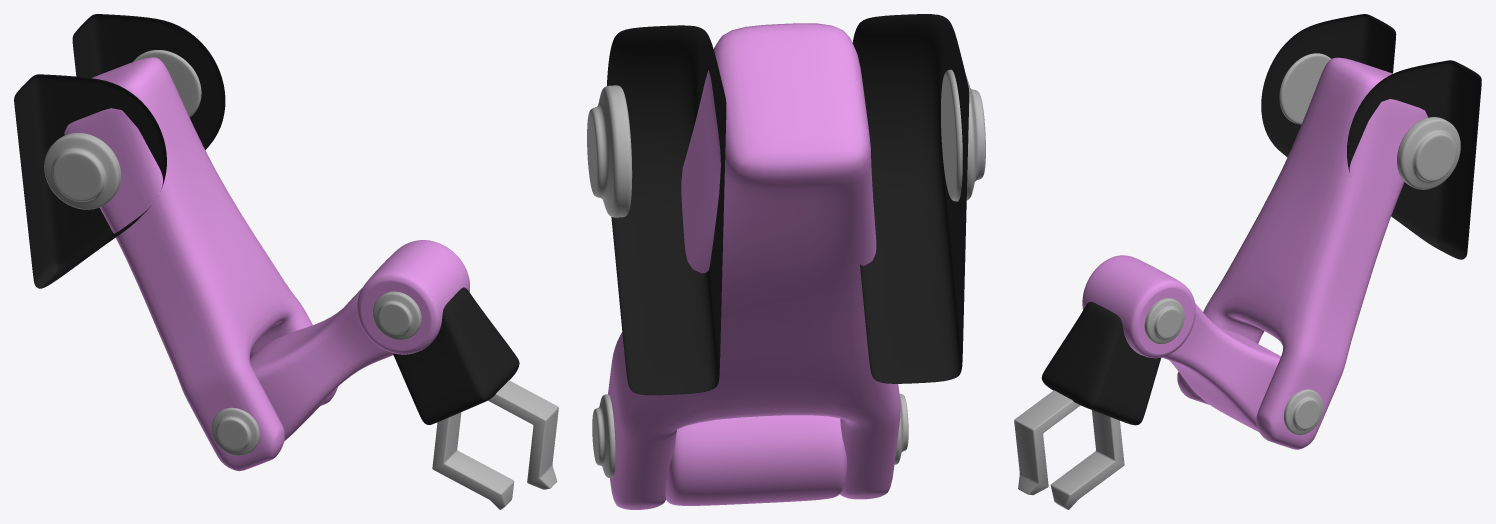
File: arm.fbx
3 views of the same model, side by side, from view 1: azimuth 30°, elevation 25°; view 2: azimuth 150°, elevation 25°; view 3: azimuth 270°, elevation 25° (orthographic). The views are drawn at different scales.
Parts seen in each view (by area): view 1: Cube.009, Cube.007, Cube.010, Cube.008, Cylinder.009, Cube.011, Cylinder.010, Cylinder.012, Cylinder.011; view 2: Cube.009, Cube.007, Cube.008, Cylinder.010, Cylinder.011; view 3: Cube.009, Cube.007, Cube.010, Cube.008, Cube.011, Cylinder.009, Cylinder.010, Cylinder.012, Cylinder.011.
Boxes of the visible parts, left/top/right/bottom form: Cube.009: left=64, top=57, right=337, bottom=471; Cube.007: left=14, top=14, right=225, bottom=288; Cube.010: left=393, top=287, right=519, bottom=424; Cube.008: left=250, top=288, right=393, bottom=440; Cylinder.009: left=357, top=240, right=469, bottom=354; Cube.011: left=432, top=380, right=558, bottom=509; Cylinder.010: left=44, top=50, right=201, bottom=209; Cylinder.012: left=373, top=291, right=421, bottom=339; Cylinder.011: left=211, top=407, right=259, bottom=455; Cube.009: left=608, top=23, right=900, bottom=509; Cube.007: left=607, top=14, right=969, bottom=395; Cube.008: left=665, top=415, right=846, bottom=505; Cylinder.010: left=587, top=69, right=985, bottom=217; Cylinder.011: left=592, top=393, right=908, bottom=477; Cube.009: left=1177, top=57, right=1427, bottom=449; Cube.007: left=1261, top=14, right=1481, bottom=259; Cube.010: left=1041, top=302, right=1160, bottom=425; Cube.008: left=1162, top=303, right=1280, bottom=431; Cube.011: left=1014, top=390, right=1124, bottom=509; Cylinder.009: left=1082, top=255, right=1195, bottom=358; Cylinder.010: left=1279, top=53, right=1460, bottom=189; Cylinder.012: left=1144, top=298, right=1184, bottom=343; Cylinder.011: left=1284, top=389, right=1323, bottom=434.
Size of the model in its own units: 47.64 by 47.64 by 56.79.
